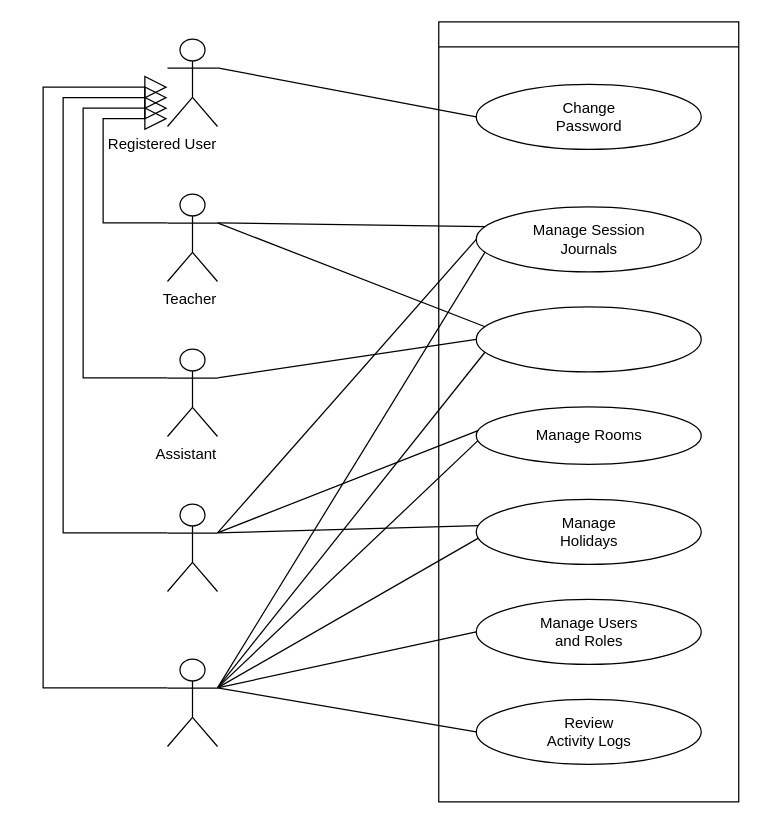
Some shapes in this 761 by 824 pixel diagram are drawn without their labels. Here are the shapes that lost their labels. From the top down, the box of each, then its label:
(475, 306, 701, 372): Manage Teaching Work Logs
(438, 21, 739, 802): LMSERP OneWorld
(166, 503, 218, 592): Manager
(166, 658, 218, 746): Administrator
